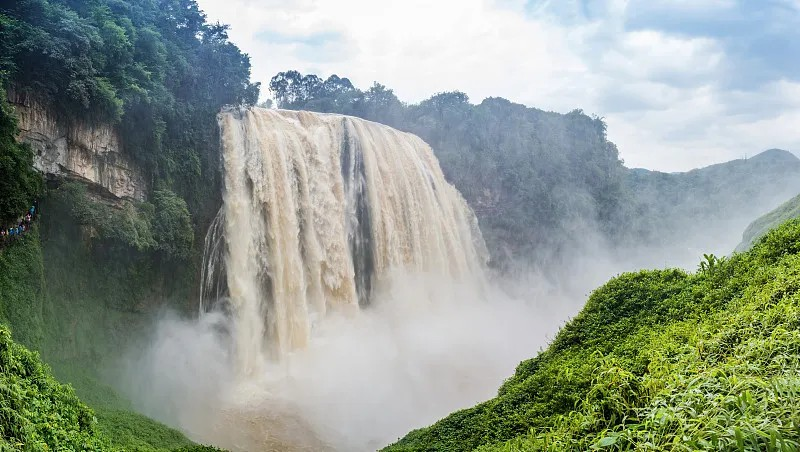Huangguoshu: (198, 104, 491, 367)
